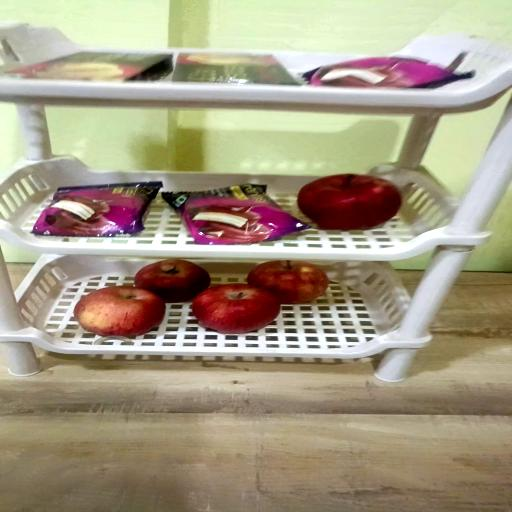Apple: (298, 176, 402, 233), (73, 286, 164, 338), (194, 285, 282, 335), (248, 262, 330, 305), (136, 260, 212, 304)
Choco Fills: (2, 52, 171, 82), (175, 52, 297, 84)
Choco Pie: (164, 186, 310, 247), (32, 183, 162, 239), (302, 55, 472, 89)
